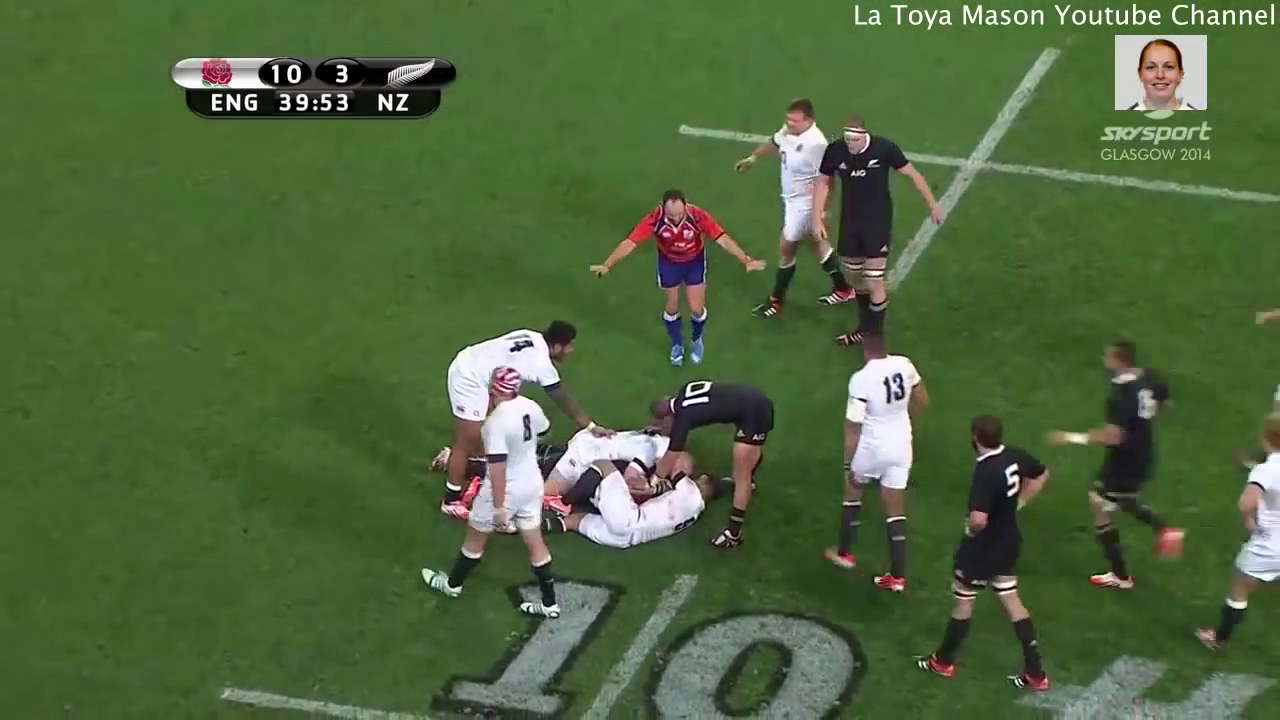10_metre: (659, 38, 1280, 311), (201, 556, 895, 720)
player: (1019, 329, 1197, 598), (904, 404, 1059, 696), (411, 356, 564, 624), (802, 104, 952, 364), (581, 183, 770, 383), (430, 308, 588, 520), (814, 324, 934, 596), (726, 81, 856, 322), (639, 368, 783, 559), (1185, 395, 1280, 670), (537, 453, 726, 550), (523, 407, 681, 499)
